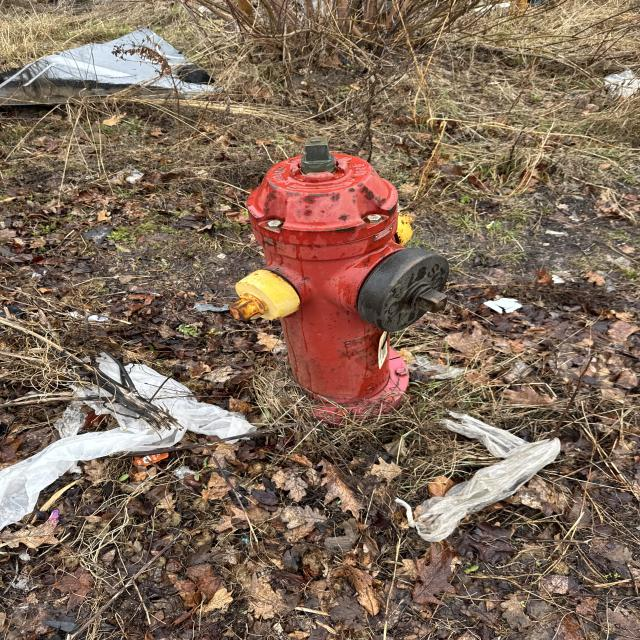Fire hydrant: (227, 137, 450, 426)
